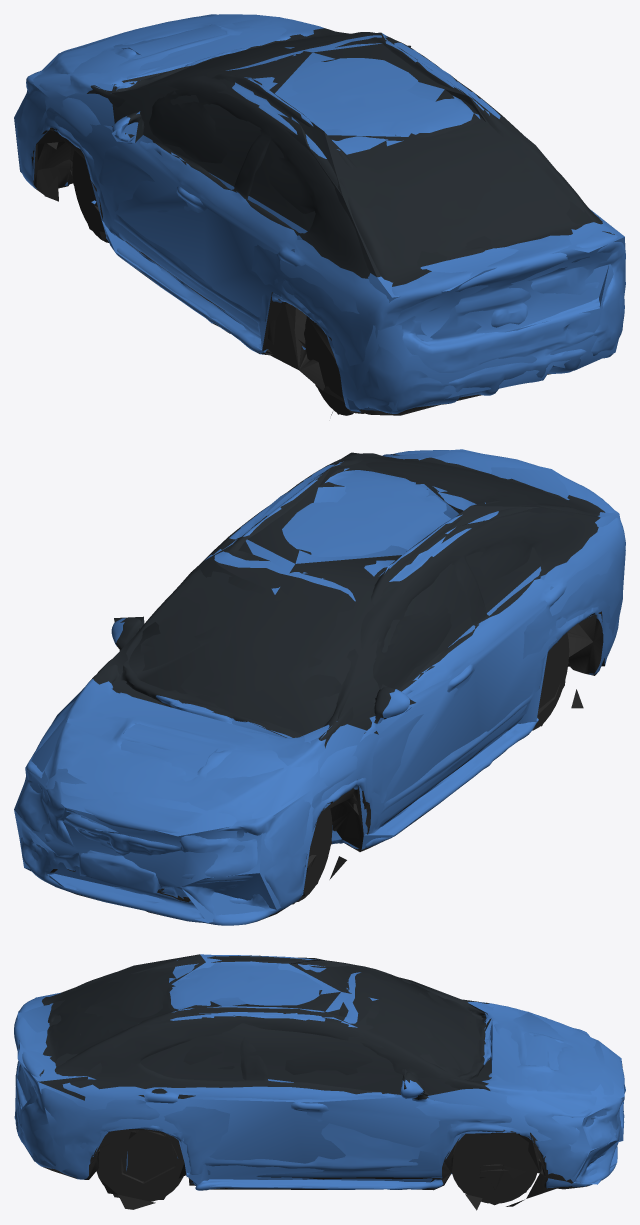
Rendered from subaru-wrx.glb.
The picture shows the model from 3 angles, top to bottom: view 1: azimuth 30°, elevation 25°; view 2: azimuth 150°, elevation 25°; view 3: azimuth 270°, elevation 25°; orthographic projection. The views are drawn at different scales.
Parts seen in each view (by area): view 1: body, far; view 2: body, far; view 3: body, far.
Boxes of the visible parts, x1,y1,x2,y2 form: body: (16,14,625,415); far: (14,14,625,415); body: (15,450,625,925); far: (14,449,625,922); body: (14,955,625,1209); far: (15,954,624,1210).
Bounding box in the file's own units: 2.05 × 1.61 × 4.76.
